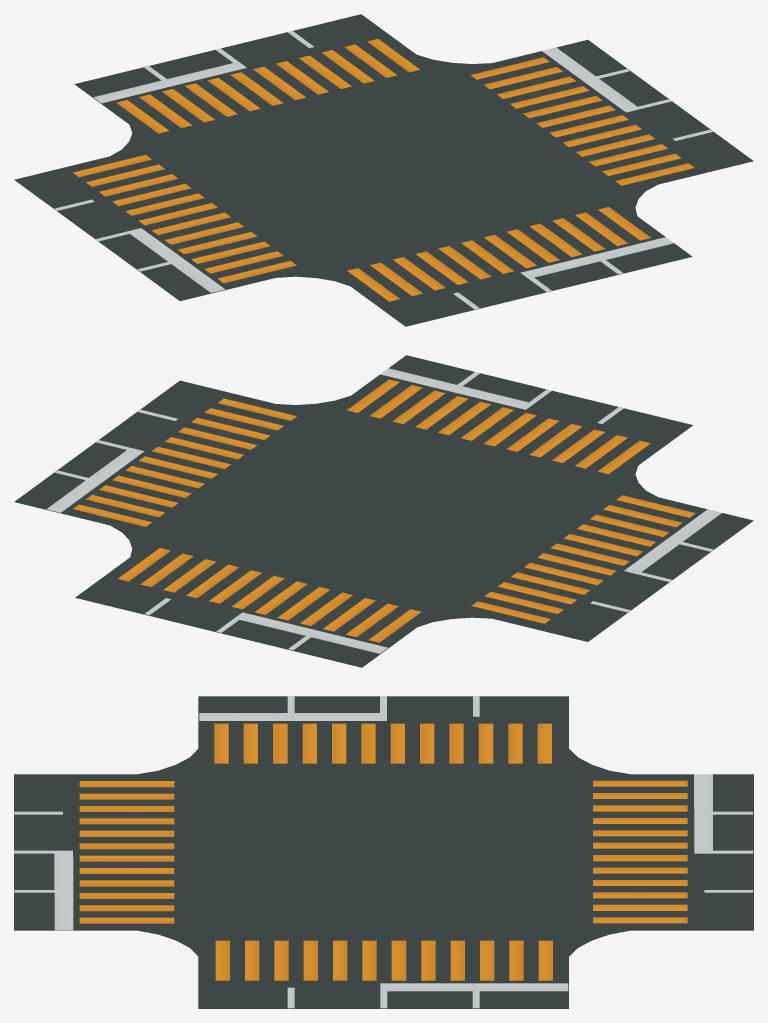
The model's file is Road_2_211.fbx.
3 renders of one model, top to bottom at view 1: azimuth 30°, elevation 25°; view 2: azimuth 150°, elevation 25°; view 3: azimuth 270°, elevation 25°, orthographic. The views are drawn at different scales.
Visible parts, largest first — view 1: Road_2_211; view 2: Road_2_211; view 3: Road_2_211.
Part boxes in pixels (<box>): Road_2_211: <box>14,14,753,326</box>; Road_2_211: <box>14,355,753,667</box>; Road_2_211: <box>14,696,753,1008</box>.
Bounding box in the file's own units: 3596 × 1.66 × 3596.
